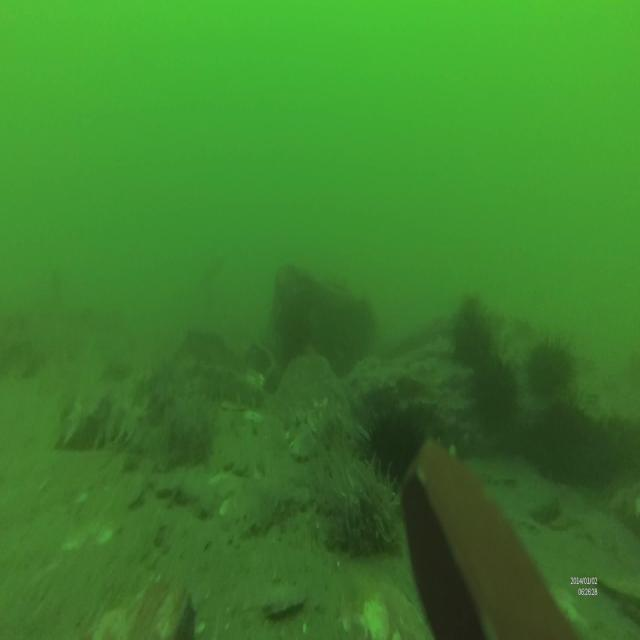echinus: (533, 396, 590, 478), (471, 362, 516, 434), (522, 338, 580, 388), (454, 300, 496, 358)
